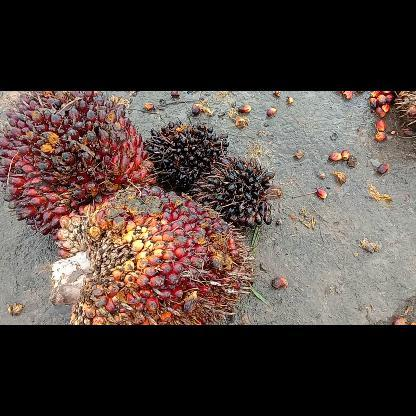TBS abnormal: (142, 116, 232, 194), (189, 152, 277, 228)
TBS masak: (47, 180, 257, 324), (0, 90, 156, 238)
